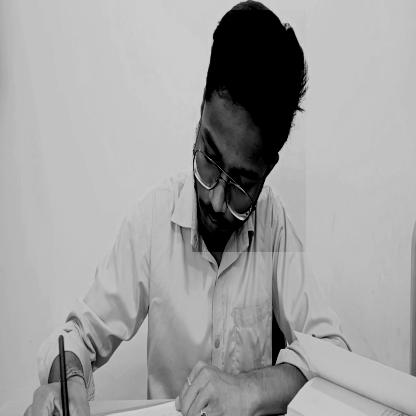Distracted: (192, 10, 306, 252)
